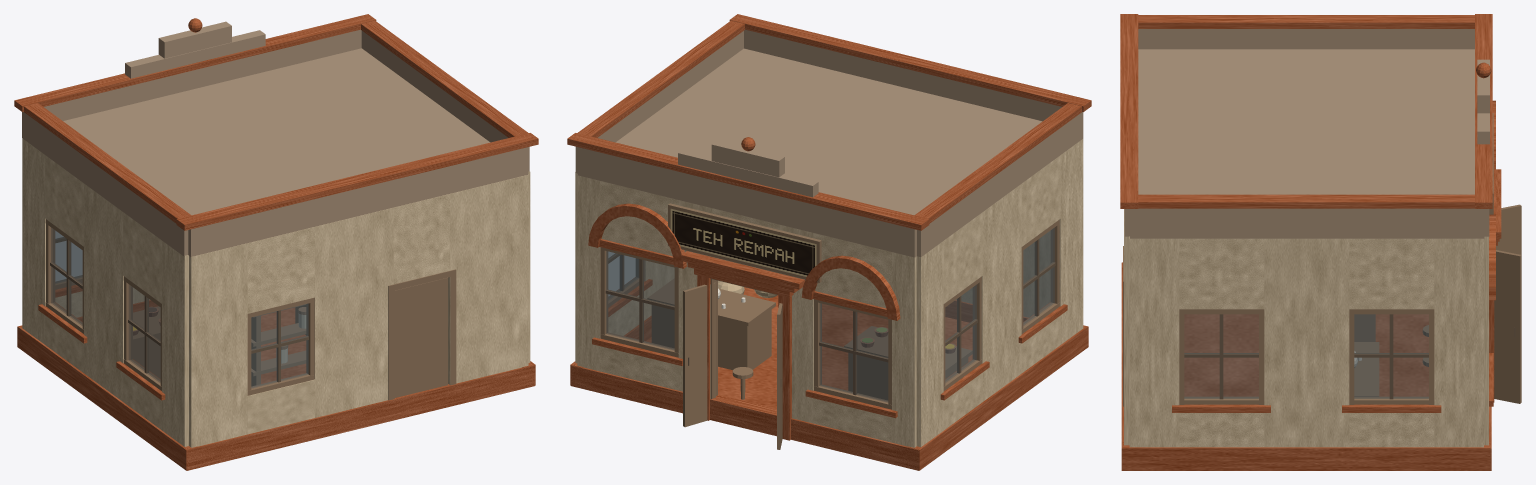
The model's file is teh-rempah-toko-blender-v1.glb.
3 renders of one model, left to right at view 1: azimuth 30°, elevation 25°; view 2: azimuth 150°, elevation 25°; view 3: azimuth 270°, elevation 25°, orthographic. The views are drawn at different scales.
Parts seen in each view (by area): view 1: teh_plaster, teh_roof, teh_terra, teh_wood, teh_glass, teh_dark; view 2: teh_roof, teh_plaster, teh_terra, teh_wood, teh_glass, teh_sign, teh_dark, teh_vc; view 3: teh_roof, teh_plaster, teh_terra, teh_wood, teh_glass, teh_dark.
Boxes of the visible parts, x1,y1,x2,y2 form: teh_plaster: [22, 138, 530, 447]; teh_roof: [22, 21, 529, 256]; teh_terra: [14, 14, 538, 470]; teh_wood: [45, 219, 456, 400]; teh_glass: [51, 228, 308, 387]; teh_dark: [50, 237, 308, 382]; teh_roof: [575, 29, 1083, 257]; teh_plaster: [575, 139, 1083, 447]; teh_terra: [567, 14, 1091, 470]; teh_wood: [600, 203, 1059, 449]; teh_glass: [606, 228, 1054, 402]; teh_sign: [670, 208, 816, 276]; teh_dark: [605, 239, 1055, 395]; teh_vc: [718, 280, 956, 353]; teh_roof: [1124, 29, 1489, 238]; teh_plaster: [1124, 209, 1488, 447]; teh_terra: [1120, 14, 1501, 470]; teh_wood: [1123, 113, 1521, 406]; teh_glass: [1184, 314, 1428, 398]; teh_dark: [1184, 314, 1515, 399].
Size of the model in its own units: 6.3 by 4.91 by 5.66.
9 materials, 3 textured.
